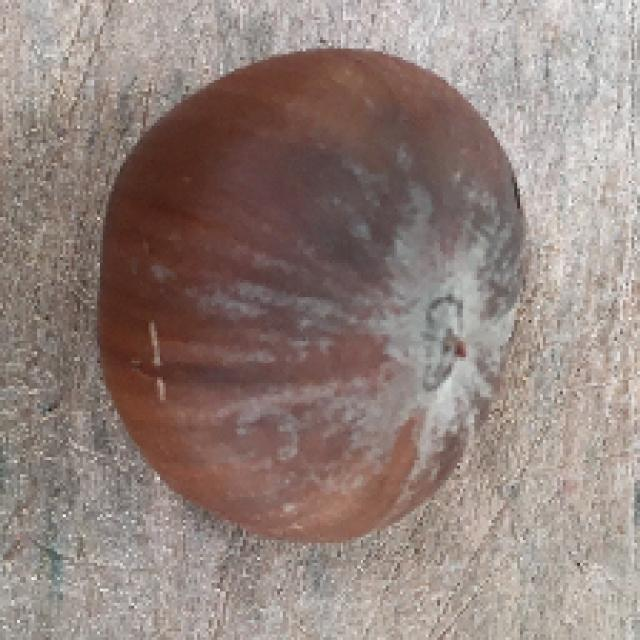qualityHazelnut: (106, 46, 526, 545)
